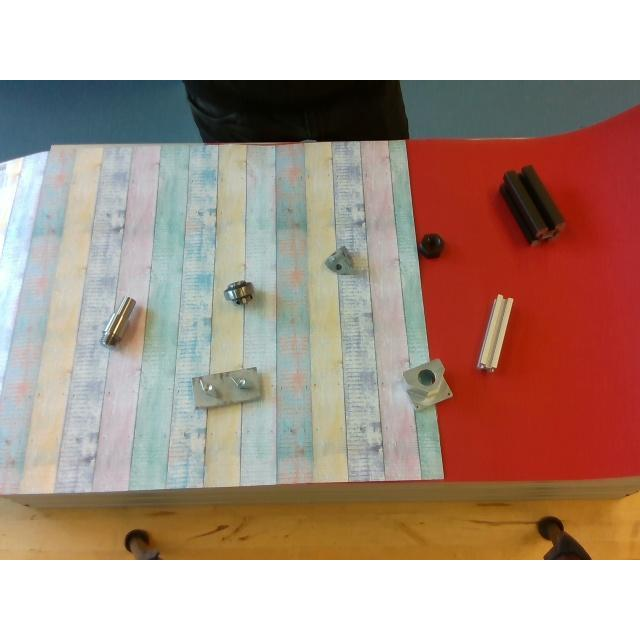Axis2: (102, 296, 134, 344)
Bearing2: (224, 278, 256, 306)
F20_20_G: (479, 294, 513, 370)
M20: (420, 233, 444, 257)
S40_40_B: (499, 165, 563, 243)
